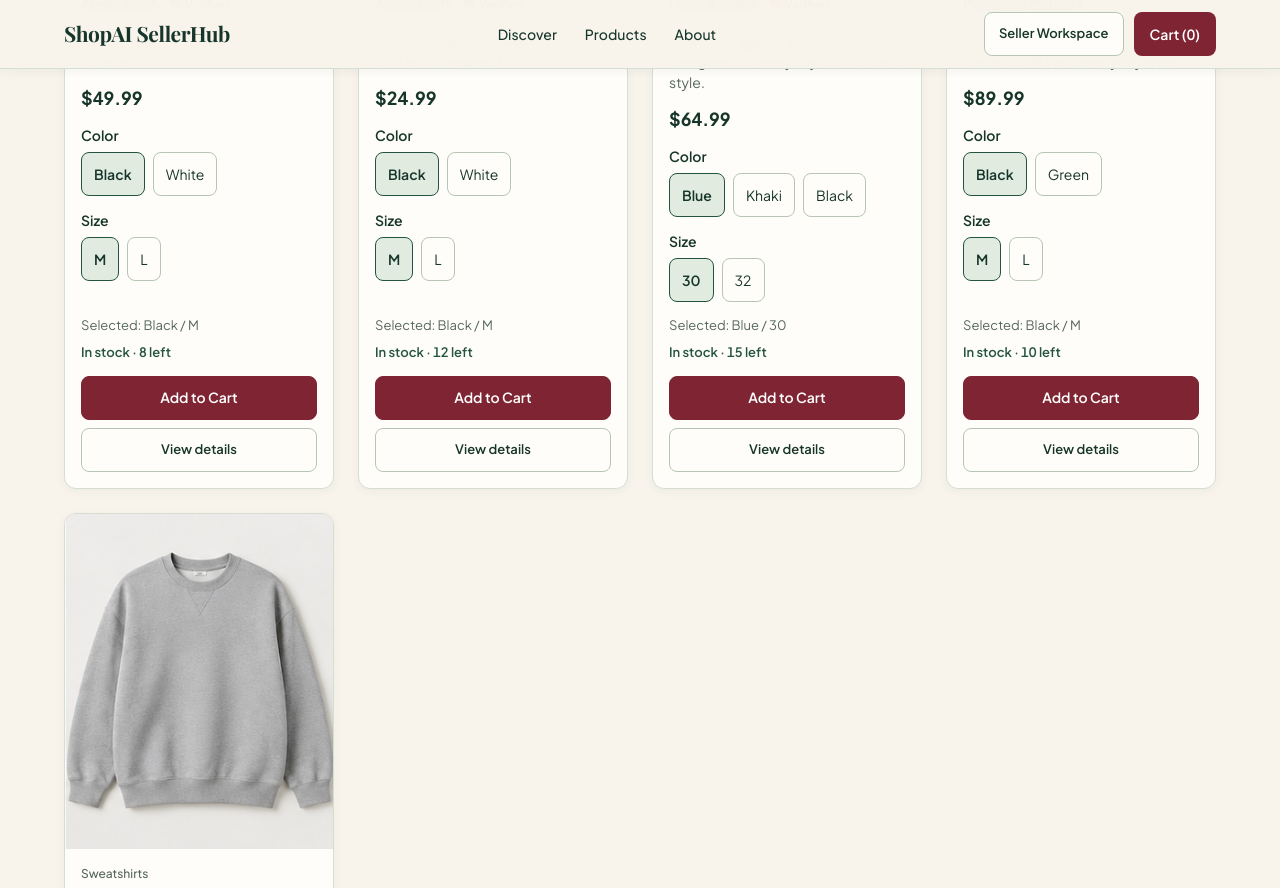
it: Stage 1 catalog enhancements › updates Header cart link count and supports adding from ProductDetailModal
(page scrolled)
Expected: the link with aria-label "shopping cart with 0 items" is shown, [1134,12,1216,56]
What coordinates should you click on to do the following:
click the button "View details" below "In stock · 8 left"
I would click on:
 (199, 450)
Its box is [81,428,317,472].
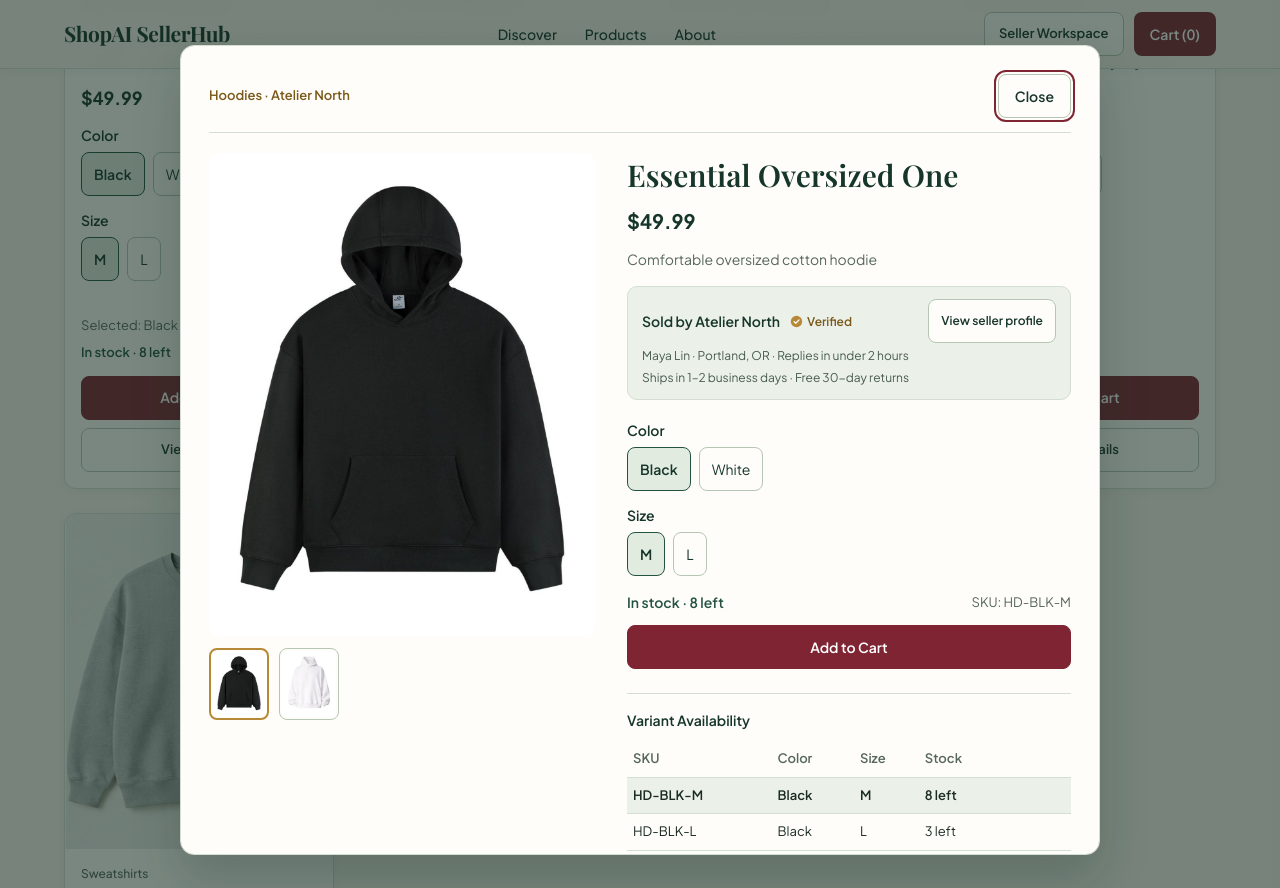
Expected: the dialog is shown
What coordinates should you click on to do the following:
click the button "Add to Cart"
I would click on:
 (849, 647)
Its box is [627,625,1071,669].
(page scrolled)
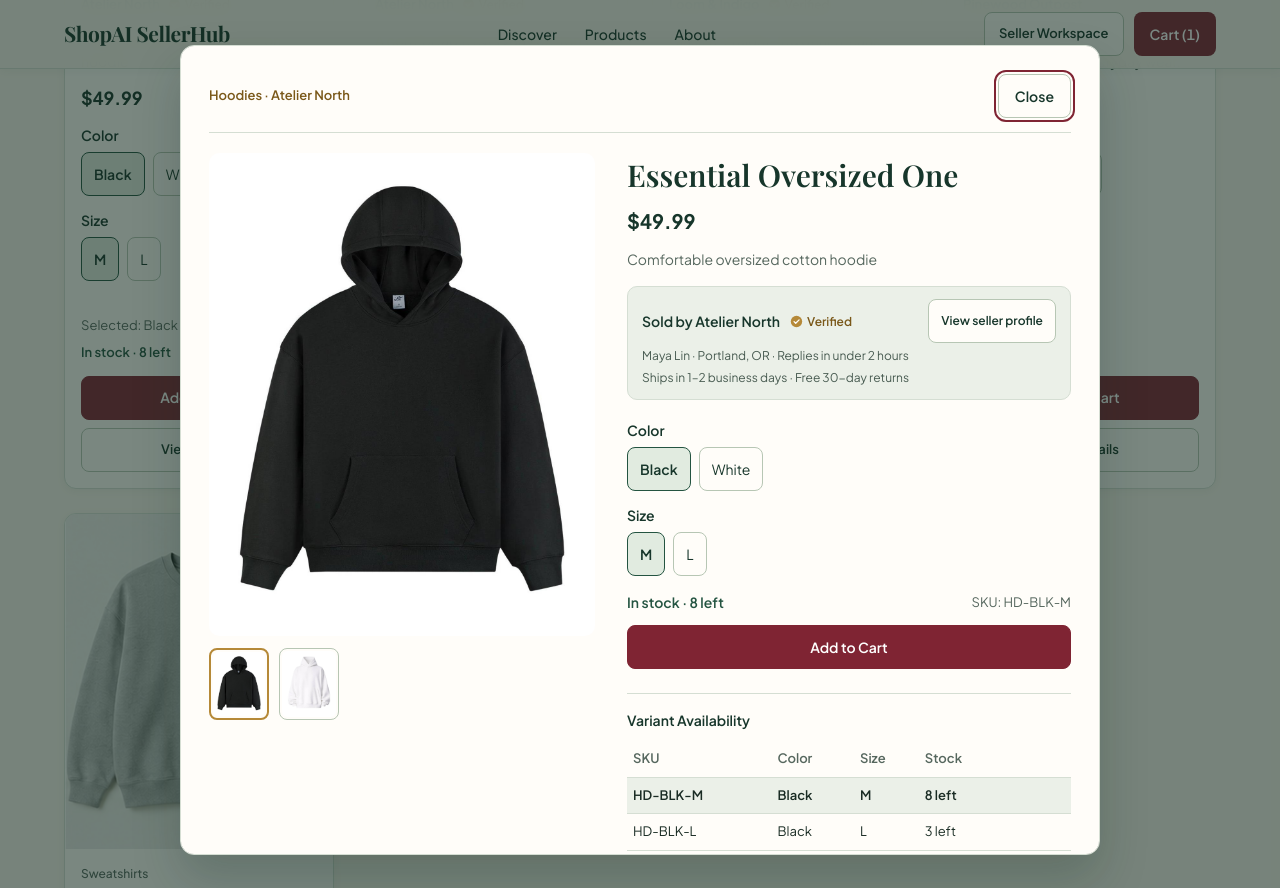
Expected: the link with aria-label "shopping cart with 1 item" is shown, [1134,12,1216,56]
What coordinates should you click on to do the following:
click the button with aria-label "close product details"
I would click on:
 (1034, 96)
Its box is [998,74,1071,118].
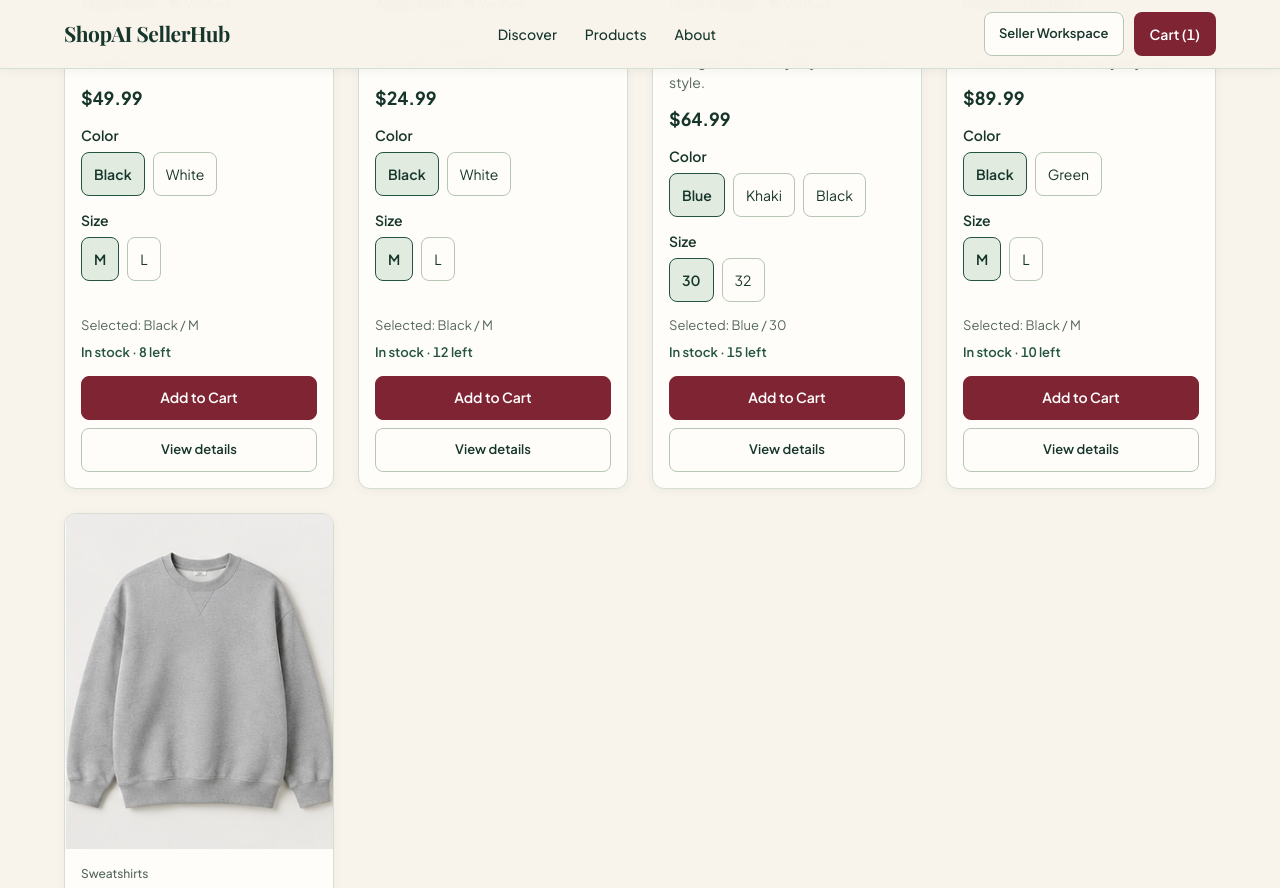
Expected: the dialog is gone
